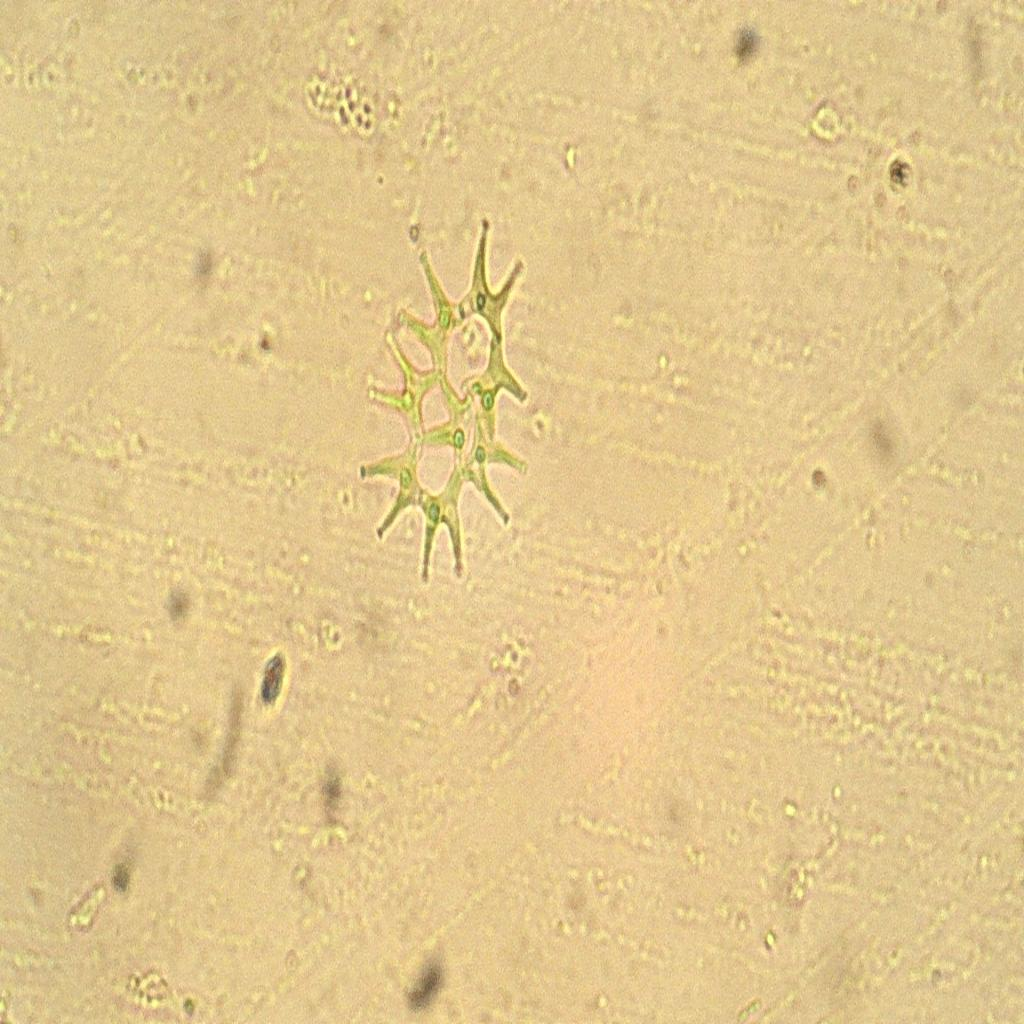Pediastrum_CFI: (358, 174, 538, 608)
